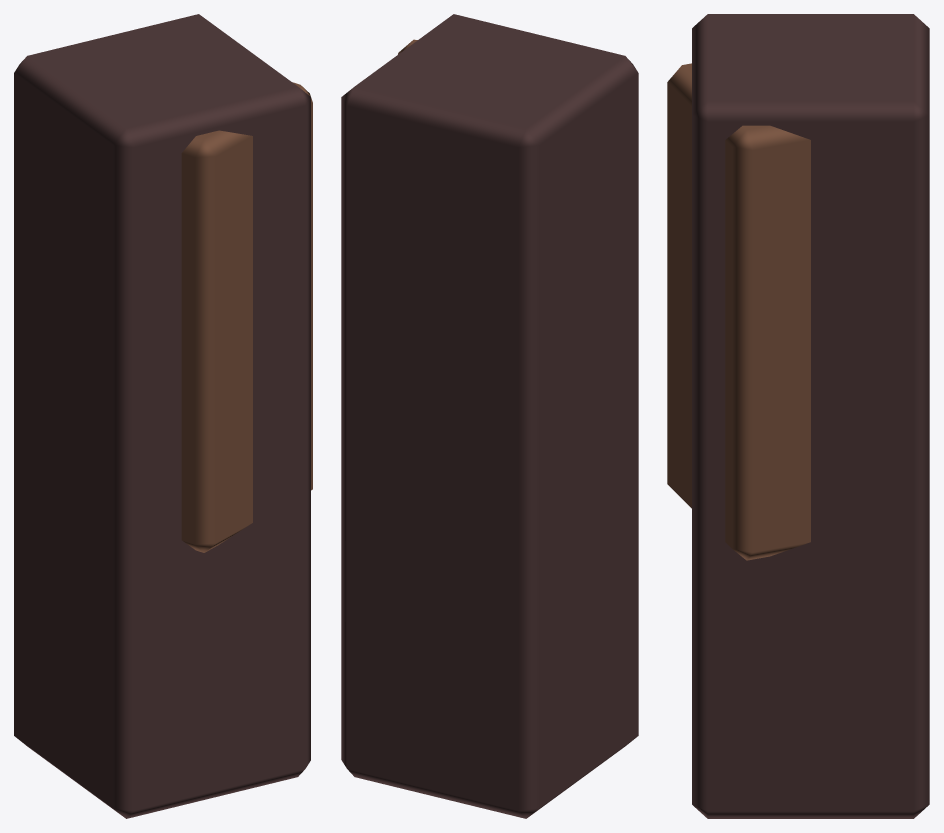
File: ghost-town-cliff-corner.33131886.glb
3 renders of one model, left to right at view 1: azimuth 30°, elevation 25°; view 2: azimuth 150°, elevation 25°; view 3: azimuth 270°, elevation 25°, orthographic. The views are drawn at different scales.
Visible parts, largest first — view 1: body; view 2: body; view 3: body.
Part boxes in pixels (x1,y1,x2,y2): body: [14, 14, 312, 818]; body: [341, 14, 638, 818]; body: [667, 14, 929, 818].
Size of the model in its own units: 0.662 by 2 by 0.662.
